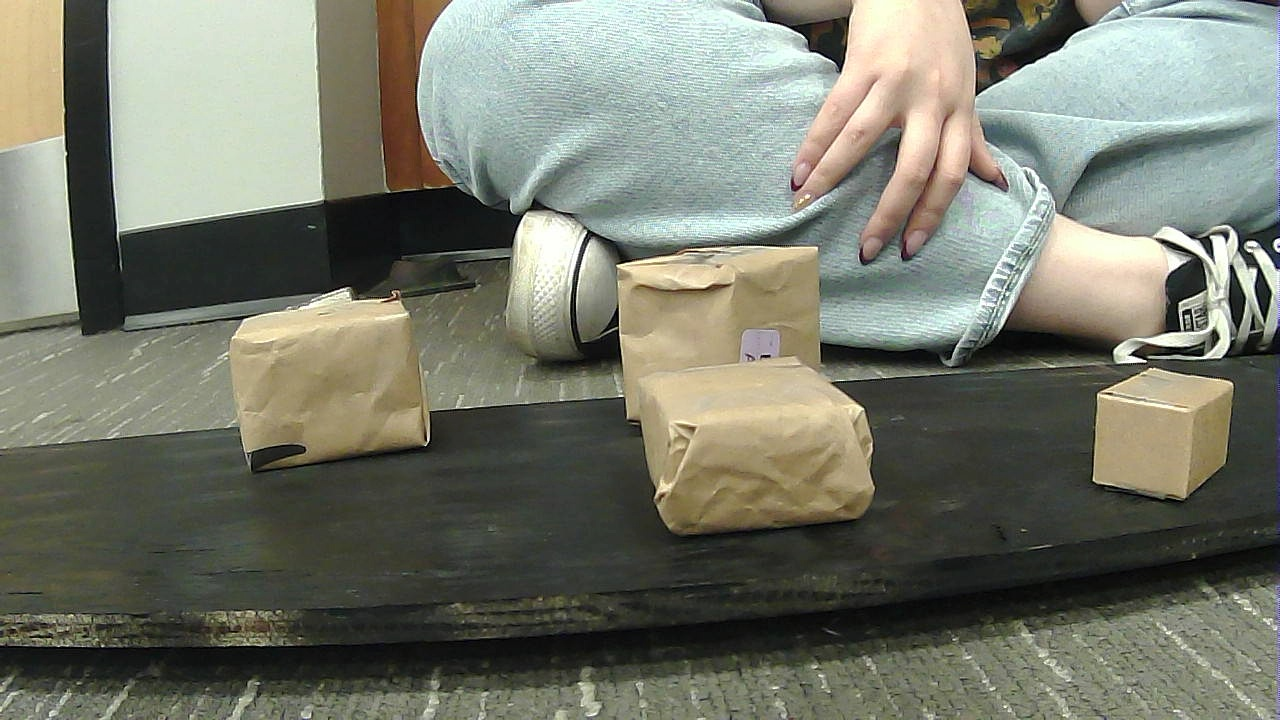package: (599, 230, 856, 423), (203, 286, 460, 459), (620, 369, 894, 525), (1064, 359, 1251, 510)
